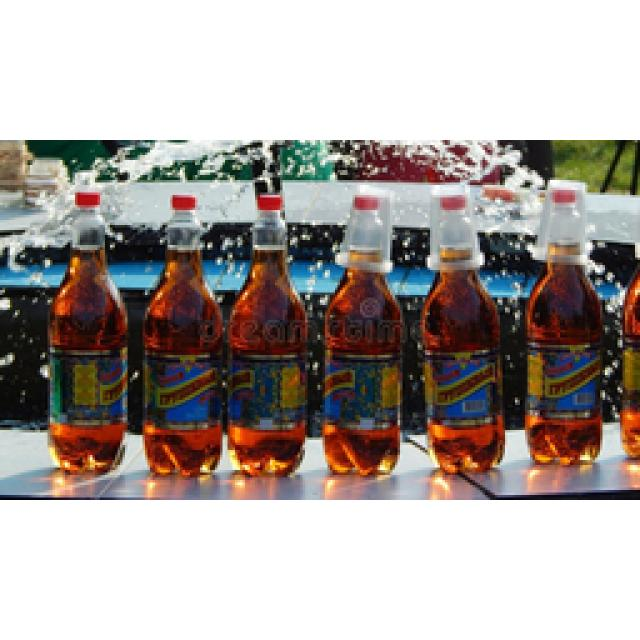plastic_soda_bottles: (42, 217, 132, 473), (419, 217, 504, 468), (226, 217, 306, 483), (324, 225, 404, 482), (148, 222, 226, 474), (525, 214, 603, 465)
